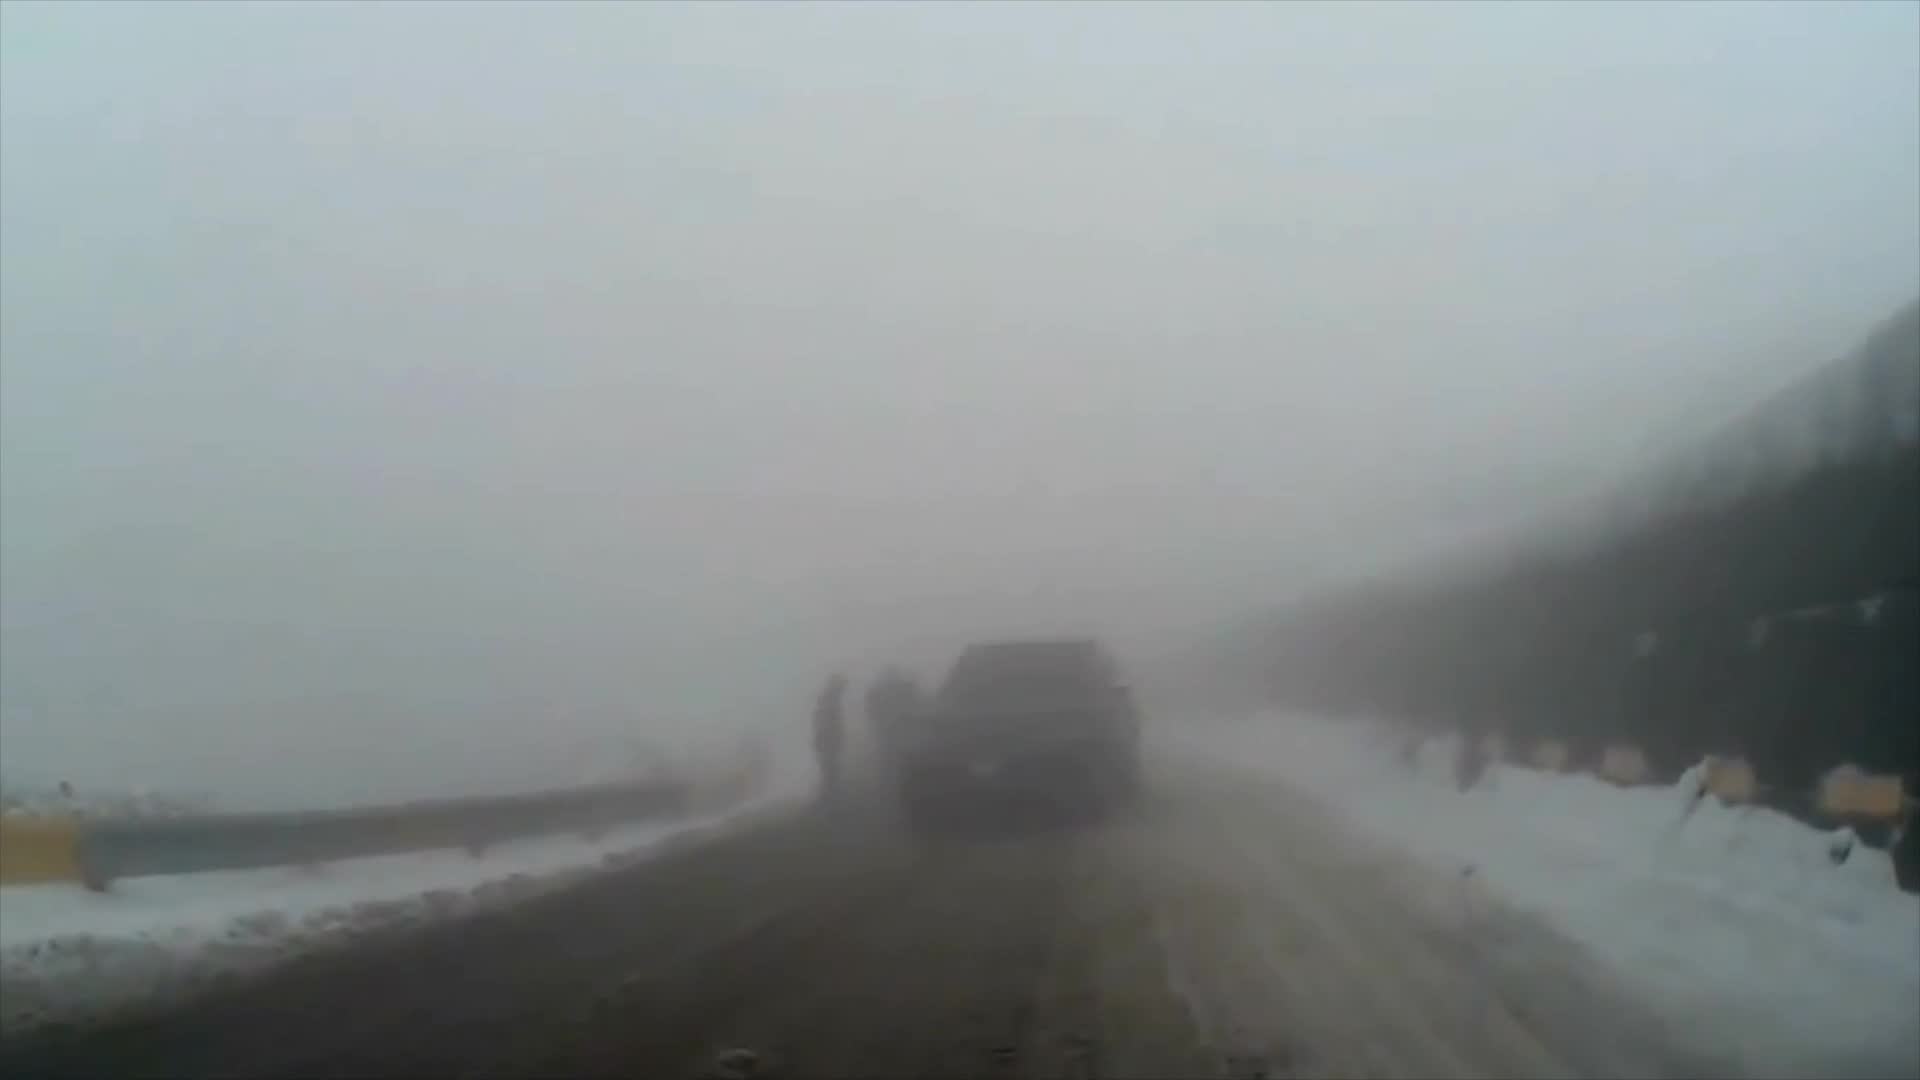pedestrian: (867, 663, 923, 788), (807, 664, 854, 805)
vehicle: (897, 632, 1144, 841)
